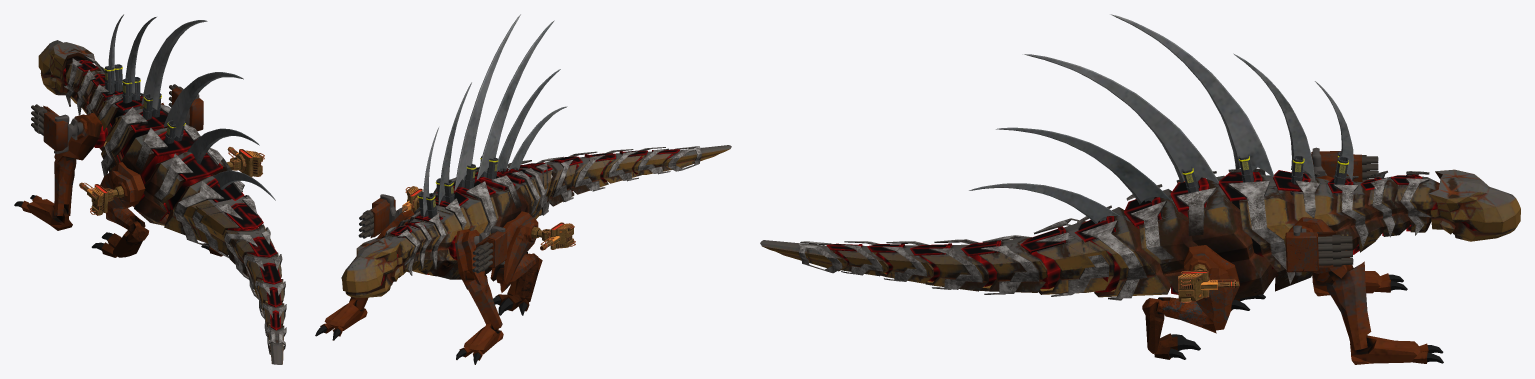
Rendered from dimechadon.glb.
The picture shows the model from 3 angles, left to right: view 1: azimuth 30°, elevation 25°; view 2: azimuth 150°, elevation 25°; view 3: azimuth 270°, elevation 25°; orthographic projection. The views are drawn at different scales.
Parts seen in each view (by area): view 1: pelvis, torso, tail01, tail02, turret01-arms, L_hip, fin03, fin04, turret03-arms, L_foot, L_shoulder, L_elbow (+20 smaller); view 2: torso, pelvis, turret01-arms, L_hip, fin03, fin04, tail03, tail02, L_foot, turret03-arms, L_shoulder, tail04 (+16 smaller); view 3: pelvis, torso, tail01, turret01-arms, fin04, fin03, tail02, tail03, turret02-arms, R_elbow, R_hip, fin05 (+13 smaller).
Boxes of the visible parts, x1,y1,x2,y2 form: pelvis: [121, 124, 244, 246]; torso: [64, 55, 170, 175]; tail01: [192, 195, 263, 258]; tail02: [222, 224, 277, 280]; turret01-arms: [38, 40, 94, 93]; L_hip: [100, 162, 145, 209]; fin03: [141, 20, 207, 109]; fin04: [163, 72, 243, 137]; turret03-arms: [31, 104, 67, 151]; L_foot: [91, 221, 148, 257]; L_shoulder: [54, 113, 102, 162]; L_elbow: [54, 156, 76, 216]; torso: [384, 177, 498, 279]; pelvis: [474, 164, 545, 273]; turret01-arms: [341, 237, 403, 292]; L_hip: [490, 211, 538, 284]; fin03: [454, 14, 520, 190]; fin04: [476, 20, 554, 179]; tail03: [551, 151, 615, 194]; tail02: [537, 156, 582, 206]; L_foot: [493, 253, 542, 315]; turret03-arms: [472, 231, 507, 273]; L_shoulder: [455, 229, 484, 289]; tail04: [603, 149, 647, 183]; pelvis: [1074, 171, 1277, 300]; torso: [1218, 168, 1439, 291]; tail01: [1020, 218, 1114, 296]; turret01-arms: [1428, 169, 1520, 234]; fin04: [1024, 54, 1218, 183]; fin03: [1110, 14, 1274, 177]; tail02: [961, 235, 1047, 294]; tail03: [910, 239, 988, 291]; turret02-arms: [1285, 231, 1353, 272]; R_elbow: [1326, 261, 1371, 350]; R_hip: [1184, 245, 1239, 330]; fin05: [996, 127, 1171, 204].
Size of the model in its own units: 6.88 by 9.77 by 21.47.
Materials: 3 (3 with a texture image).
